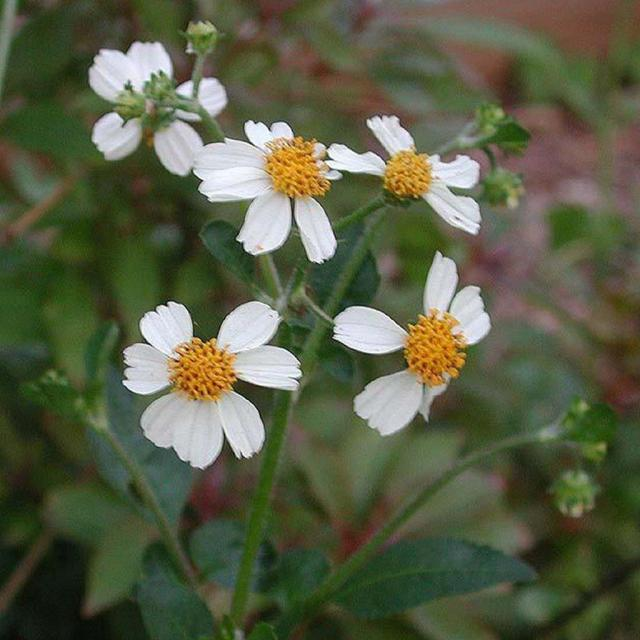organic waste: (108, 298, 323, 470), (332, 253, 497, 439), (205, 116, 362, 274), (320, 112, 489, 234), (86, 32, 215, 174)
